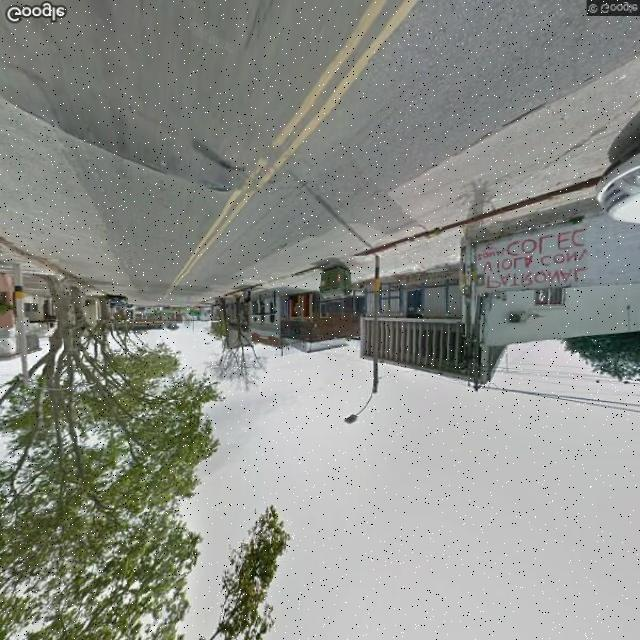garbage container: (316, 259, 361, 306)
